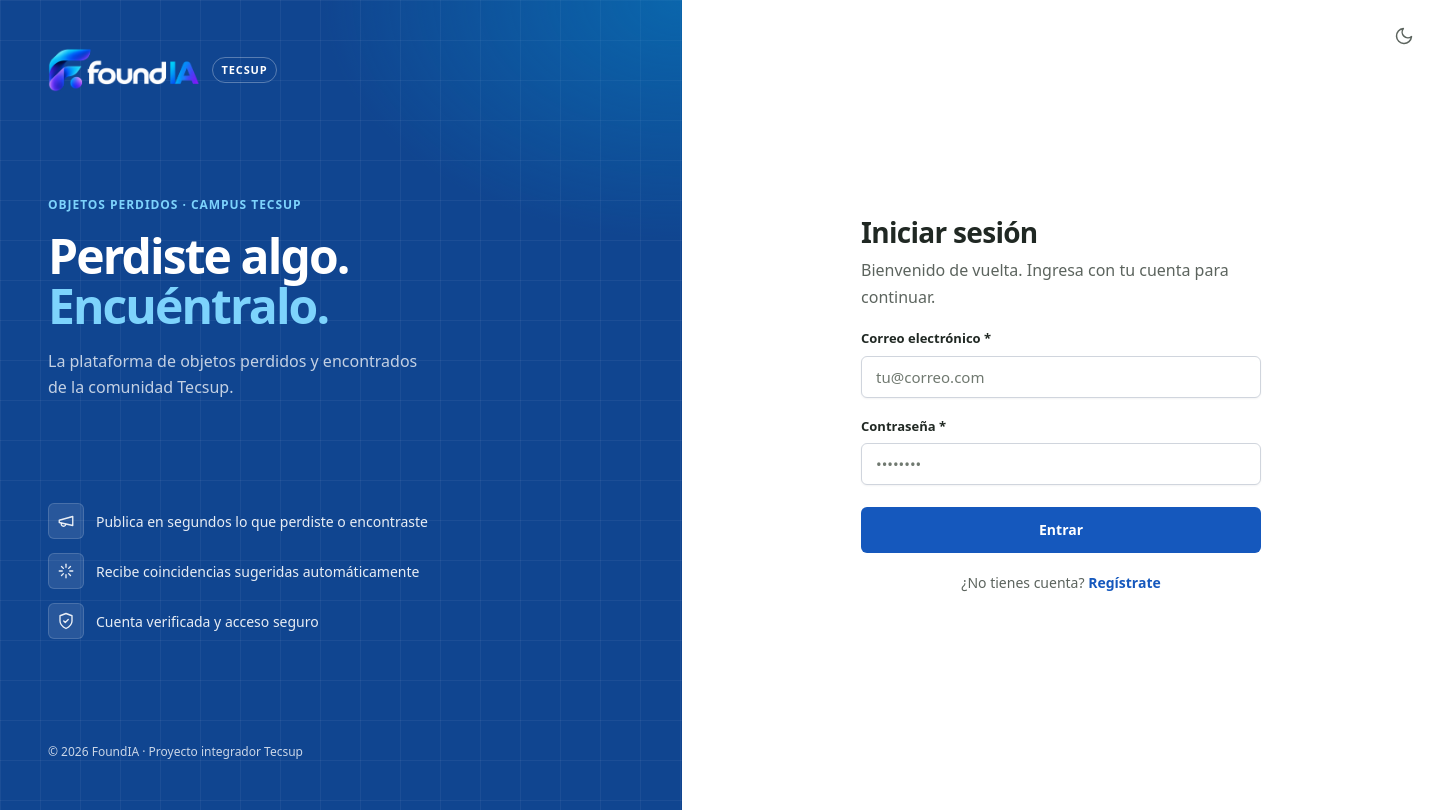
Scenario: H12 - Bloqueo del inicio de sesión › muestra en español la falta de conexión con el servidor
Type "ana@tecsup.edu.pe" into the field labelled "Correo electrónico *" at {"x": 1061, "y": 377}, box [861,356,1261,398]
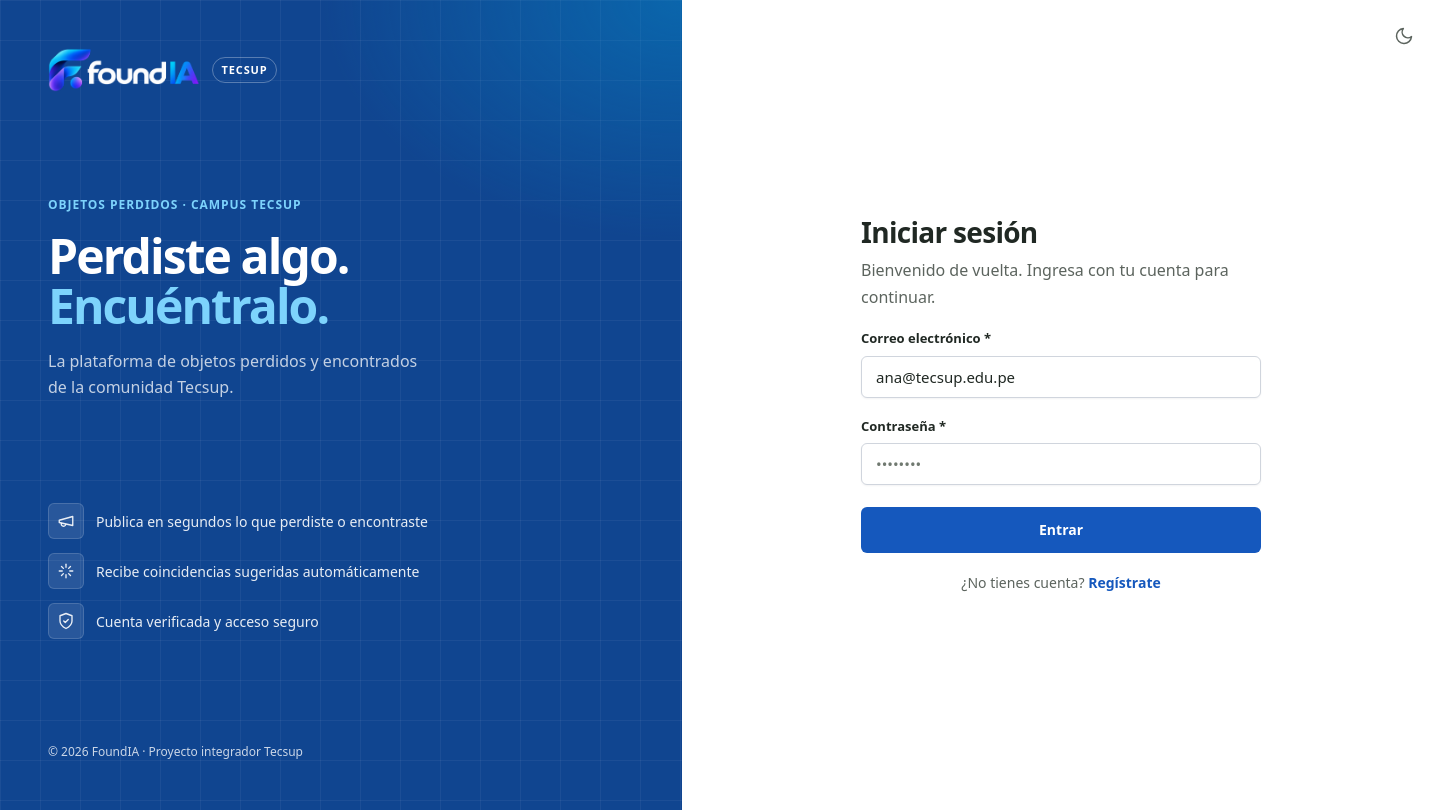
Type "Clave#123" into the password field labelled "Contraseña *" at {"x": 1061, "y": 464}, box [861,443,1261,485]
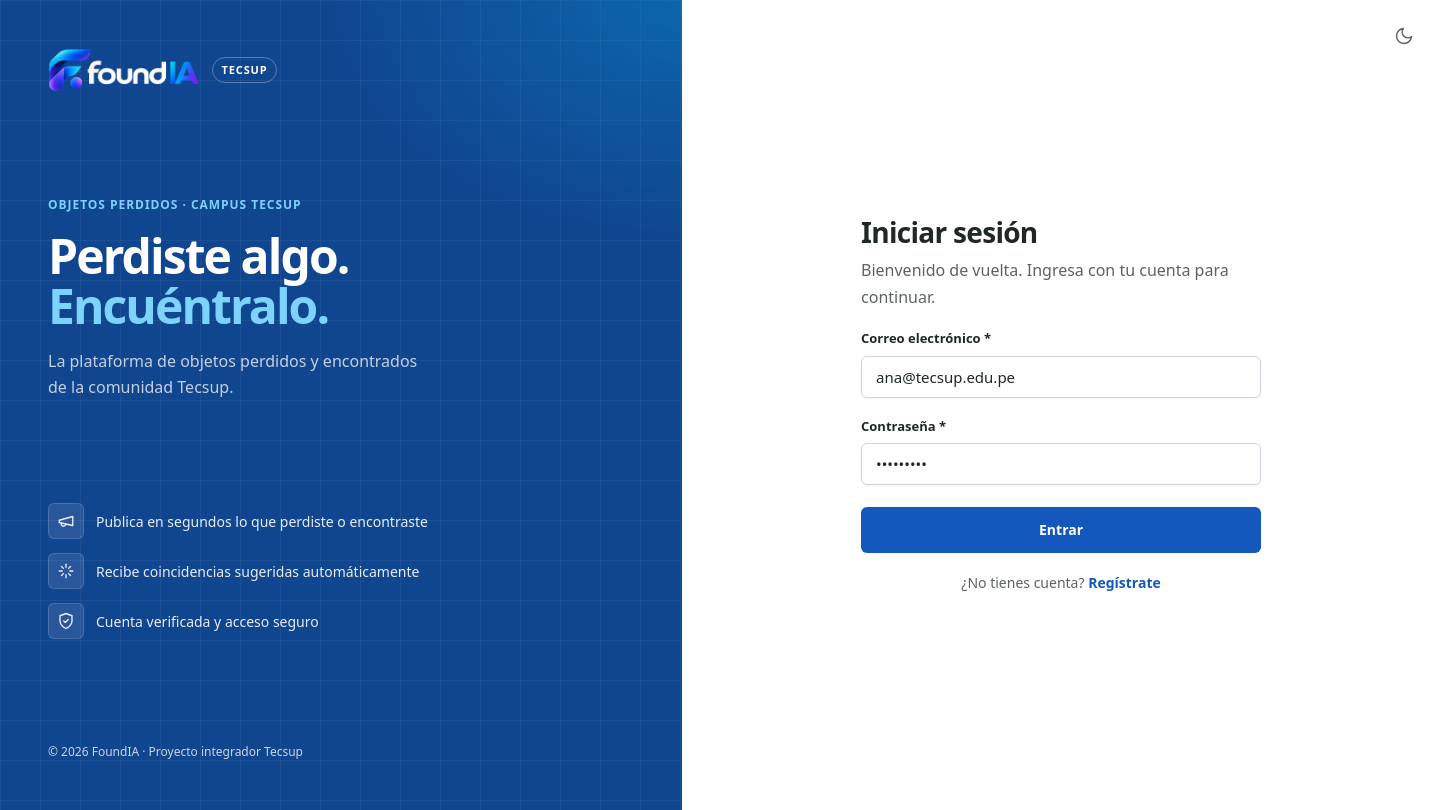
Click the button "Entrar" at {"x": 1061, "y": 530}, box [861,507,1261,553]
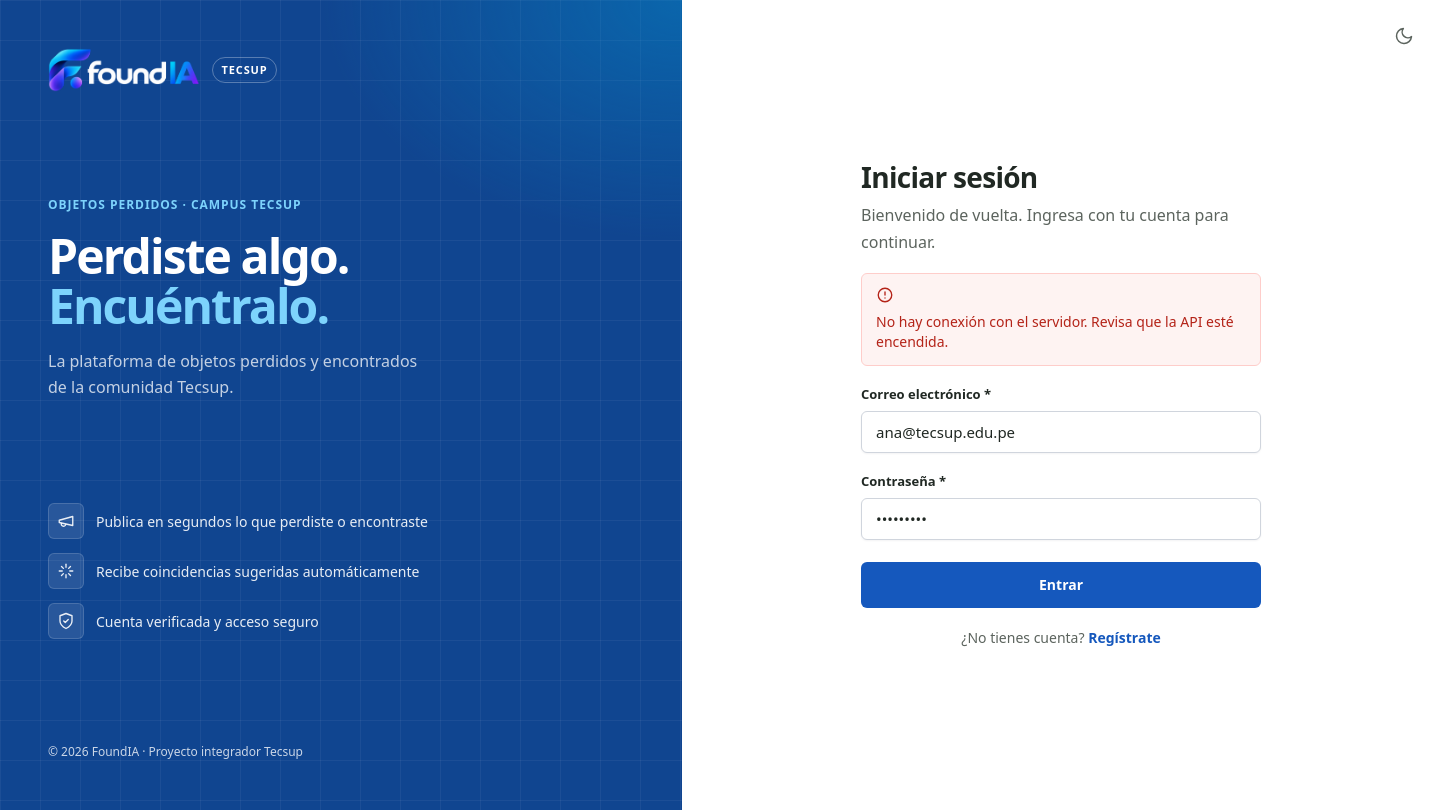
Result: the message shows "No hay conexión con el servidor" at [876,312,1234,351]
